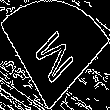M_SW: (31, 21, 79, 89)
